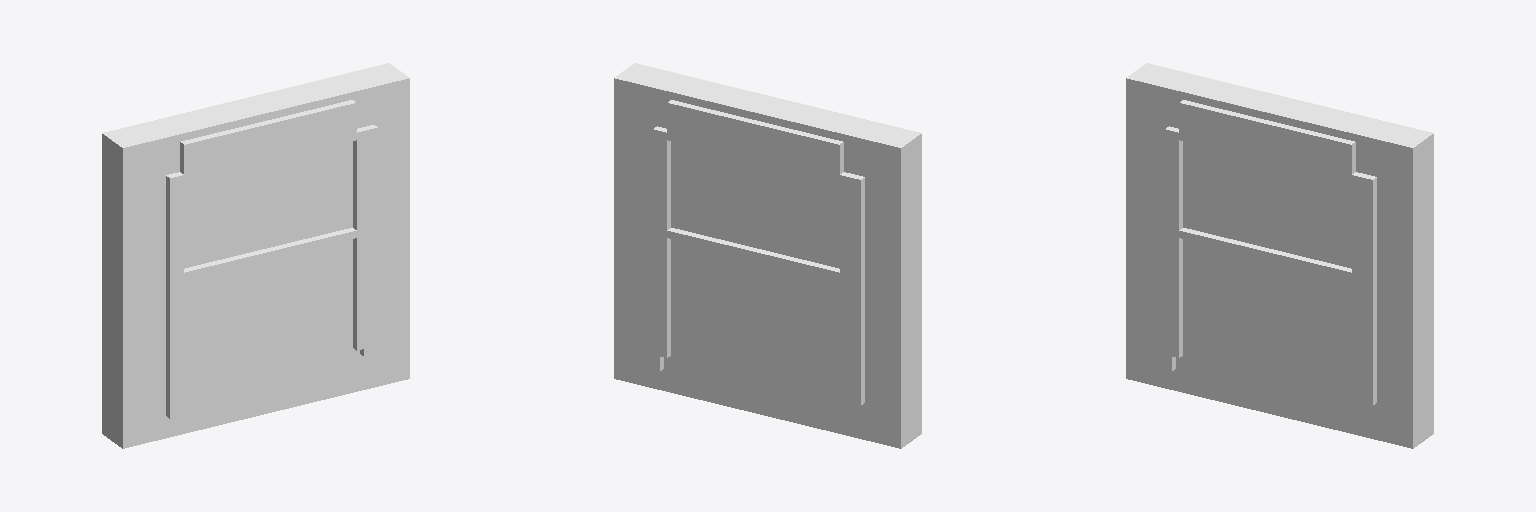
Rendered from averias.obj.
3 views of the same model, side by side, from view 1: azimuth 30°, elevation 25°; view 2: azimuth 150°, elevation 25°; view 3: azimuth 330°, elevation 25° (orthographic).
Parts seen in each view (by area): view 1: averias; view 2: averias; view 3: averias.
Boxes of the visible parts, x1=… form: averias: x1=102, y1=63, x2=409, y2=448; averias: x1=614, y1=63, x2=921, y2=448; averias: x1=1126, y1=63, x2=1433, y2=448.
Bounding box in the file's own units: 40 × 40 × 7.